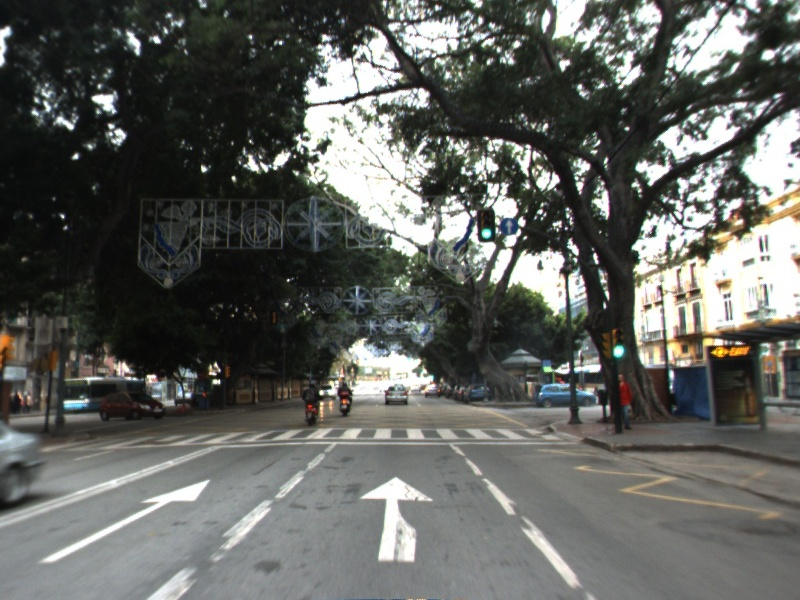STRAIGHT: (36, 478, 212, 565), (357, 475, 435, 564)
